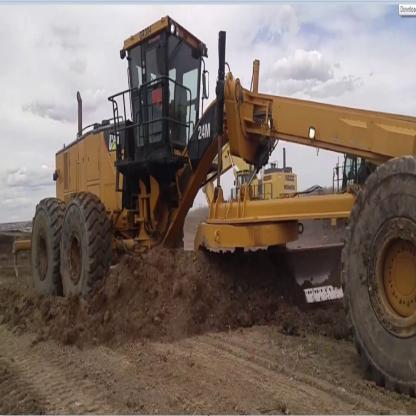bull_dozer/loader/grader: (9, 16, 416, 396)
